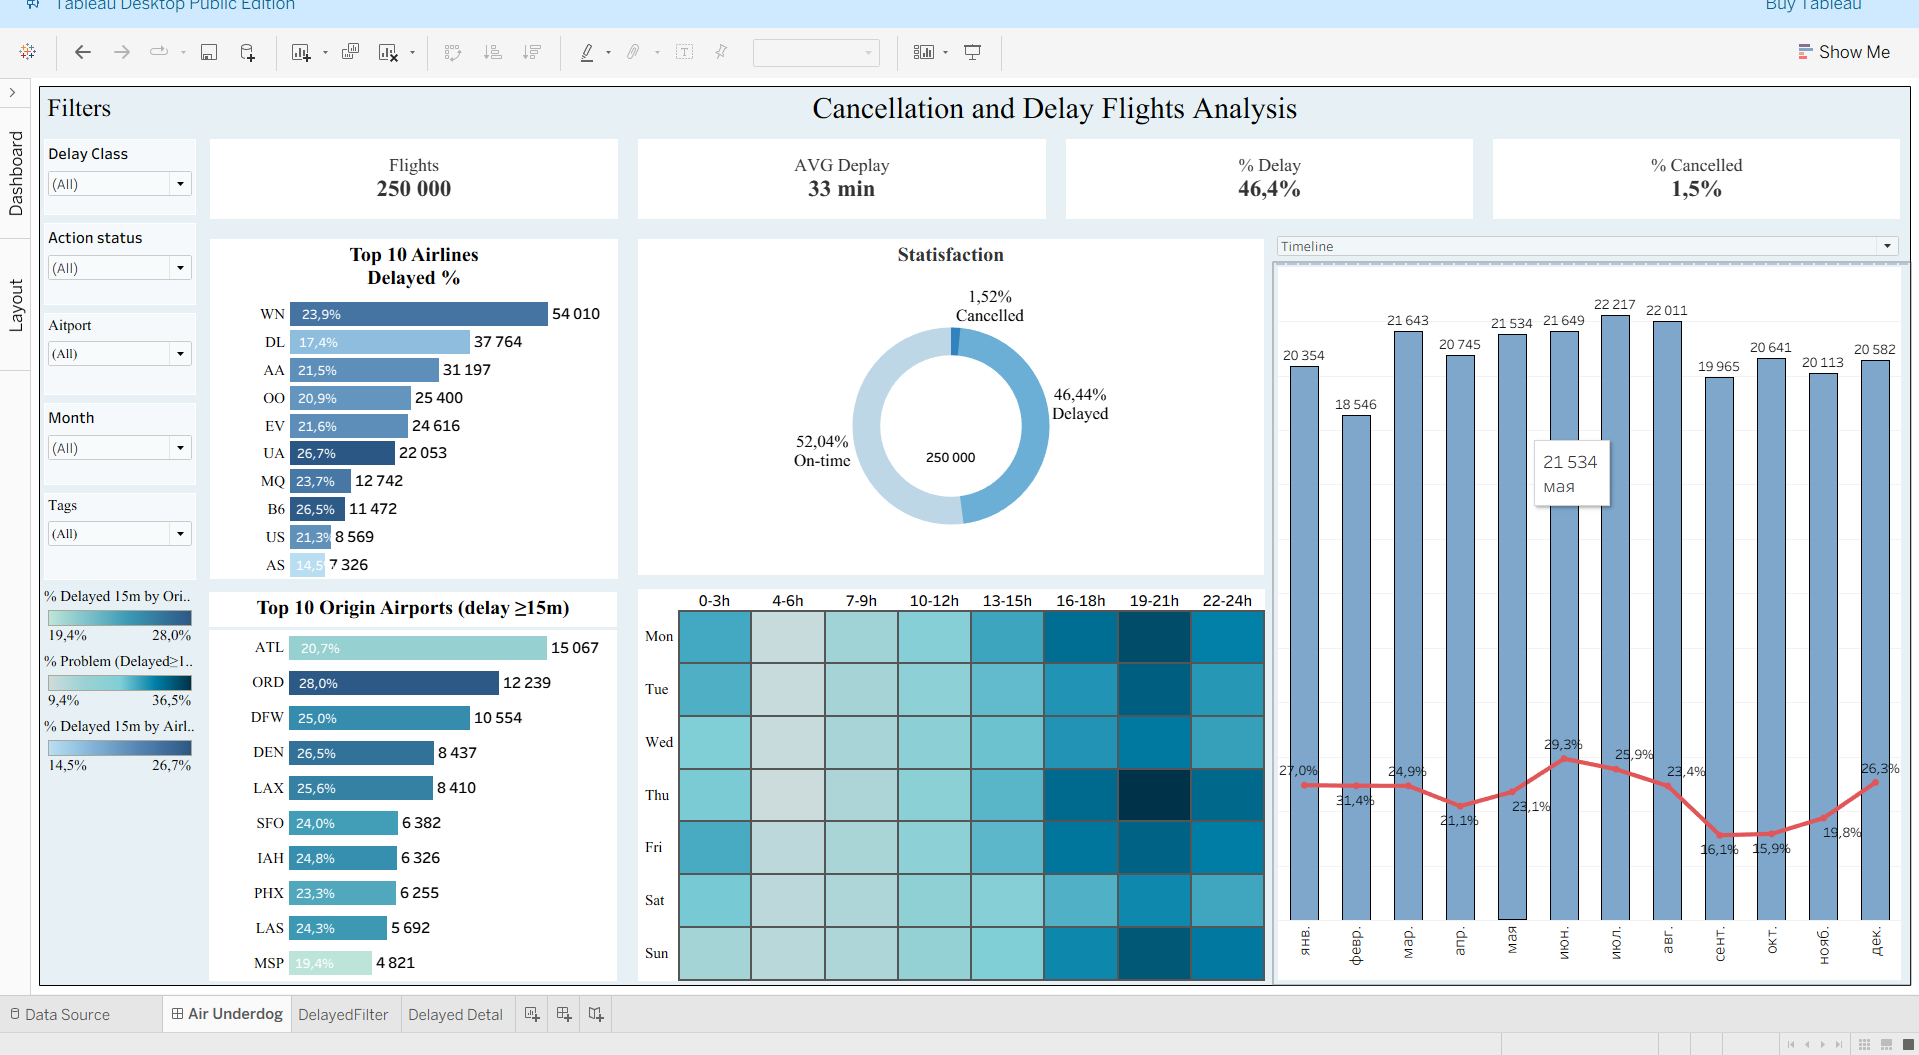

Layout of this report page (visuals, bound fields, positions):
{"tool":"tableau","page":{"name":"Air Underdog","canvas":[1600,900],"ordinal":0},"visuals":[{"type":"text","box":[9,9,160,42]},{"type":"text","box":[169,9,1422,42]},{"type":"filter","title":"Statisfaction","param":"[federated.1hv3qde1ofenso1ep36o11guu0ek].[none:Calculation_911978980892692481:nk","box":[9,51,160,90]},{"type":"worksheet","title":"Number of Passengers","mark":"Automatic","box":[169,51,356,100]},{"type":"worksheet","title":"Average Arrival Delay","mark":"Automatic","box":[525,51,356,100]},{"type":"worksheet","title":"Average Departure Delay","mark":"Automatic","box":[881,51,355,100]},{"type":"worksheet","title":"Average Flight Distance","mark":"Automatic","box":[1236,51,355,100]},{"type":"filter","title":"Timeline","param":"[federated.1hv3qde1ofenso1ep36o11guu0ek].[Action (Status (bucket))]","box":[9,141,160,90]},{"type":"worksheet","title":"Top 10 Air","mark":"Bar","rows":["Airline"],"cols":["Calculation_1501669056712376346","Calculation_1509550356877598720"],"box":[169,151,355.7,352]},{"type":"worksheet","title":"Statisfaction","mark":"Pie","rows":["Calculation_1501669056699928599","Calculation_1501669056699961369"],"box":[524.7,151,430.3,340]},{"type":"parameter","param":"[Parameters].[Parameter 2]","box":[955,151,636,34]},{"type":"worksheet","title":"Timeline","mark":"Bar","rows":["Calculation_1501669056584040463","Calculation_1501669056717160476"],"cols":["Calculation_1501669056583946254"],"box":[955,185,636,1]},{"type":"worksheet","title":"Map","mark":"Circle","rows":["Calculation_1882786175480266769"],"cols":["Calculation_1882786175481008146"],"box":[955,186,636,705]},{"type":"filter","title":"Top 10 Origin Airports (delay ≥15m)","param":"[federated.1hv3qde1ofenso1ep36o11guu0ek].[attr:AIRPORT (airports.csv):nk]","box":[9,231,160,90]},{"type":"filter","title":"Timeline","param":"[federated.1hv3qde1ofenso1ep36o11guu0ek].[tmn:Calculation_1501669056583946254:ok","box":[9,321,160,90]},{"type":"filter","title":"DelayedF","param":"[federated.1hv3qde1ofenso1ep36o11guu0ek].[none:Calculation_739716295340027906:nk","box":[9,411,160,95]},{"type":"worksheet","title":"DelayedF","mark":"Square","rows":["Calculation_739716295340027906"],"cols":["Calculation_739716295339917313"],"box":[524.7,491,430.3,400]},{"type":"worksheet","title":"Top 10 Origin Airports (delay ≥15m)","mark":"Bar","rows":["Origin Airport"],"cols":["Calculation_1501669056712376346","Calculation_1509550356877598720"],"box":[169,503,355.7,387.9]},{"type":"legend","title":"Top 10 Origin Airports (delay ≥15m)","param":"[federated.1hv3qde1ofenso1ep36o11guu0ek].[usr:Calculation_1882786175389724672:qk","box":[9,506,160,65]},{"type":"legend","title":"DelayedF","param":"[federated.1hv3qde1ofenso1ep36o11guu0ek].[usr:Calculation_1882786175450505217:qk","box":[9,571,160,65]},{"type":"legend","title":"Top 10 Air","param":"[federated.1hv3qde1ofenso1ep36o11guu0ek].[usr:Calculation_1501669056717262877:qk","box":[9,636,160,65]}]}

Visuals, with their boxes on the page's 1600x900 design canvas (x1, y1, x2, y2). These are canvas units, not pixel positions in the 1919x1055 screenshot, which may show the page scaled, cropped or inside an application window:
text: [9, 9, 169, 51]
text: [169, 9, 1591, 51]
"Statisfaction" filter: [9, 51, 169, 141]
"Number of Passengers" worksheet: [169, 51, 525, 151]
"Average Arrival Delay" worksheet: [525, 51, 881, 151]
"Average Departure Delay" worksheet: [881, 51, 1236, 151]
"Average Flight Distance" worksheet: [1236, 51, 1591, 151]
"Timeline" filter: [9, 141, 169, 231]
"Top 10 Air" worksheet (Bar marks): [169, 151, 525, 503]
"Statisfaction" worksheet (Pie marks): [525, 151, 955, 491]
parameter: [955, 151, 1591, 185]
"Timeline" worksheet (Bar marks): [955, 185, 1591, 186]
"Map" worksheet (Circle marks): [955, 186, 1591, 891]
"Top 10 Origin Airports (delay ≥15m)" filter: [9, 231, 169, 321]
"Timeline" filter: [9, 321, 169, 411]
"DelayedF" filter: [9, 411, 169, 506]
"DelayedF" worksheet (Square marks): [525, 491, 955, 891]
"Top 10 Origin Airports (delay ≥15m)" worksheet (Bar marks): [169, 503, 525, 891]
"Top 10 Origin Airports (delay ≥15m)" legend: [9, 506, 169, 571]
"DelayedF" legend: [9, 571, 169, 636]
"Top 10 Air" legend: [9, 636, 169, 701]
